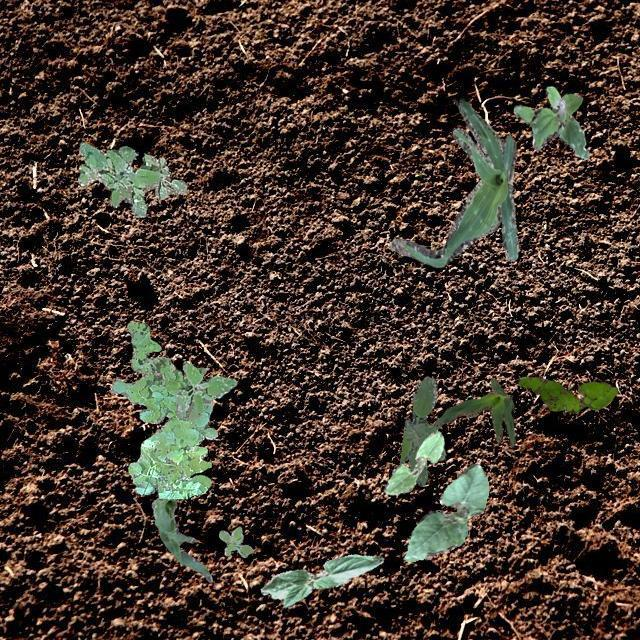crop: (390, 98, 518, 266), (402, 462, 488, 560), (260, 554, 382, 606), (432, 378, 514, 444), (150, 496, 212, 582), (382, 431, 442, 494)
weed: (110, 321, 222, 498), (76, 142, 186, 216), (512, 86, 588, 158), (398, 376, 444, 486), (174, 360, 236, 422), (518, 376, 616, 412), (218, 526, 252, 556)
